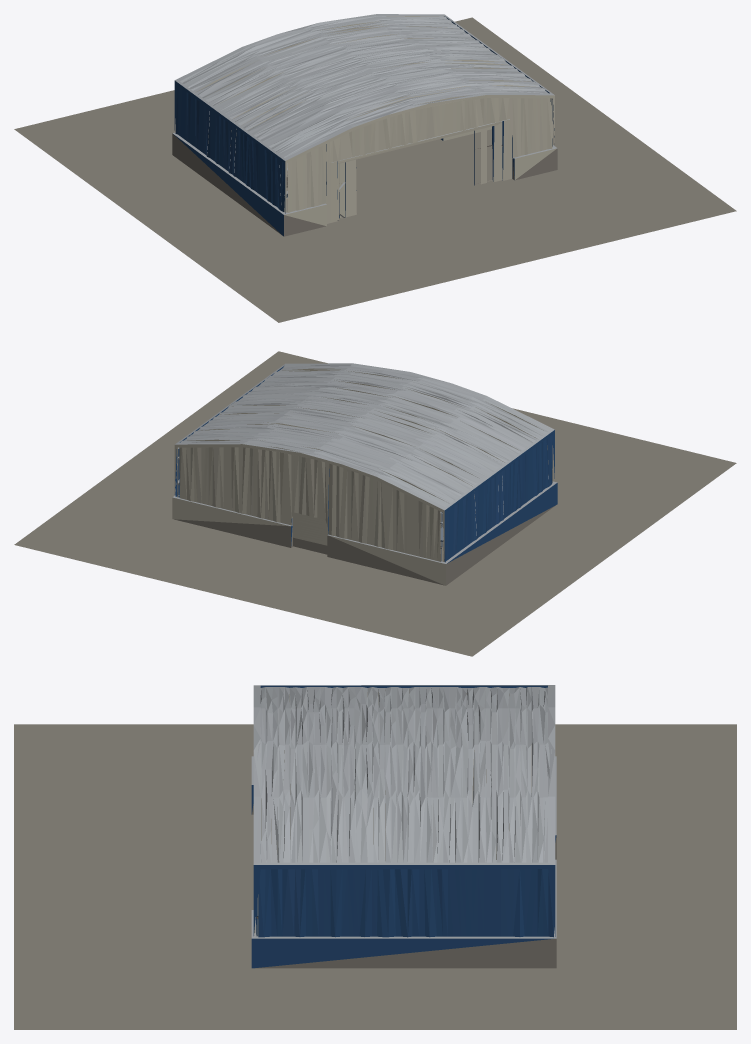
Rendered from hangar.zfix-v14.lod1.glb.
The picture shows the model from 3 angles, top to bottom: view 1: azimuth 30°, elevation 25°; view 2: azimuth 150°, elevation 25°; view 3: azimuth 270°, elevation 25°; orthographic projection. The views are drawn at different scales.
Parts seen in each view (by area): view 1: Object_3; view 2: Object_3; view 3: Object_3.
Boxes of the visible parts, bbox=[...] form: Object_3: bbox=[14, 14, 736, 322]; Object_3: bbox=[14, 351, 736, 656]; Object_3: bbox=[14, 685, 736, 1029].
Size of the model in its own units: 62.35 by 12.68 by 62.35.
